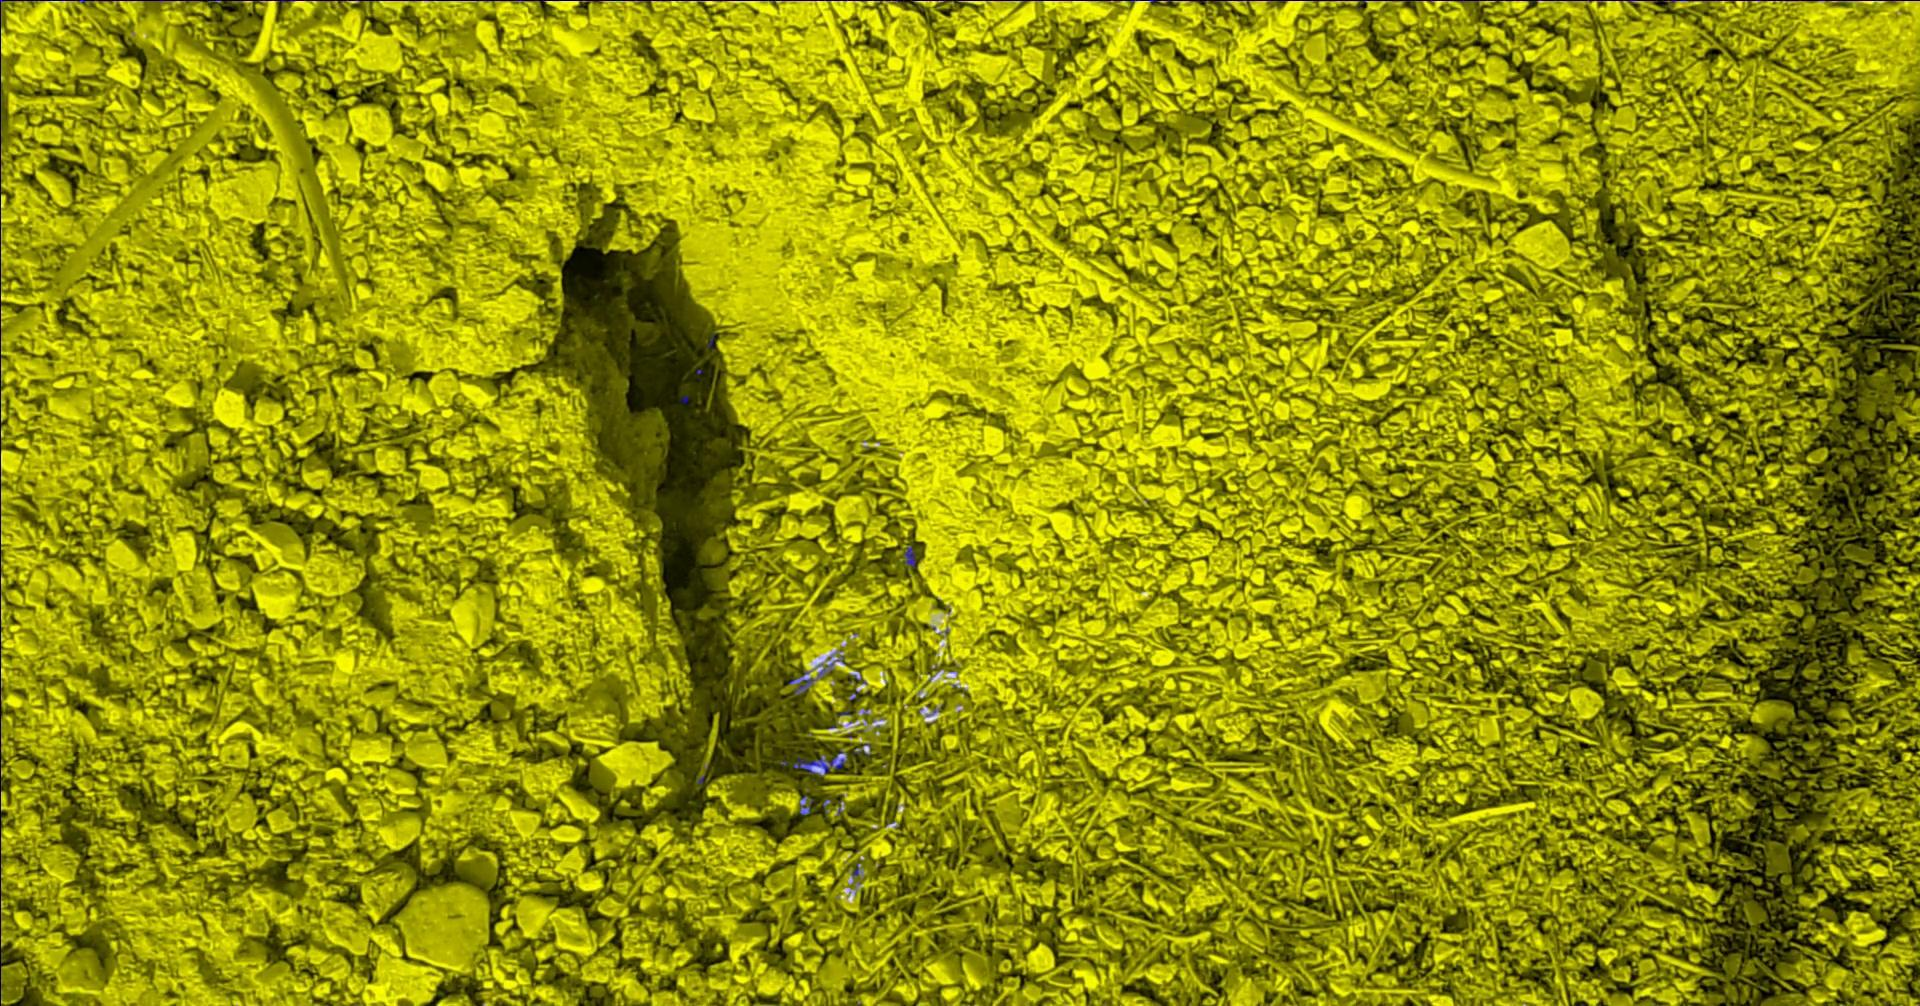ant: (792, 753, 847, 774), (787, 669, 814, 694), (817, 655, 844, 678), (903, 545, 916, 567), (799, 795, 811, 814)
